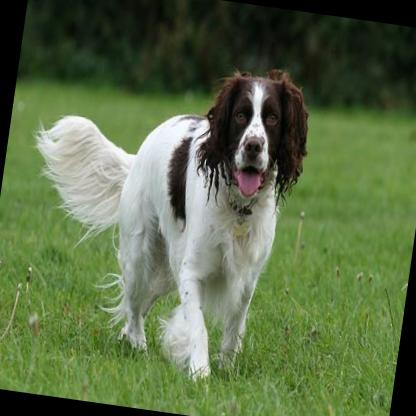English_springer: (0, 30, 319, 391)
